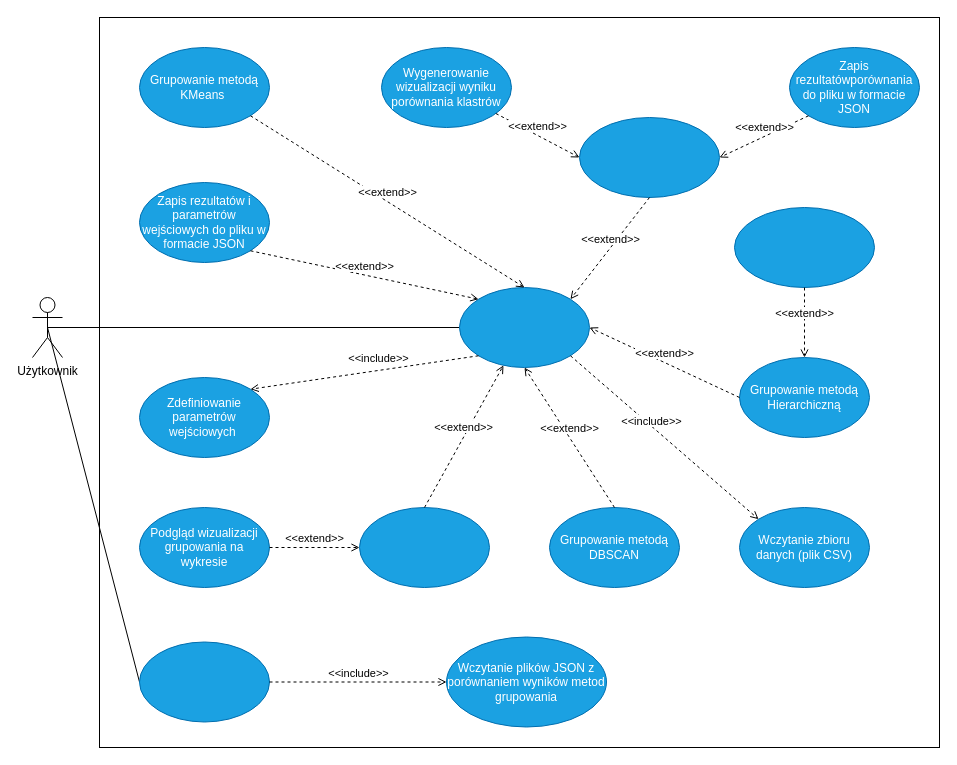
This 957x765 diagram has some shape labels left out. Each missing label, with the centre of its shape:
Grupowanie zbioru danych: the point at 524,327
Podgląd danych wynikowych procesu grupowania: the point at 424,547
Podgląd grupowanych danych na dendrogramie: the point at 804,247
Porównanie zawartości klastrów pomiędzy metodami: the point at 649,157
Wygenerowanie wizualizacji wydajności metod grupowania: the point at 204,681
